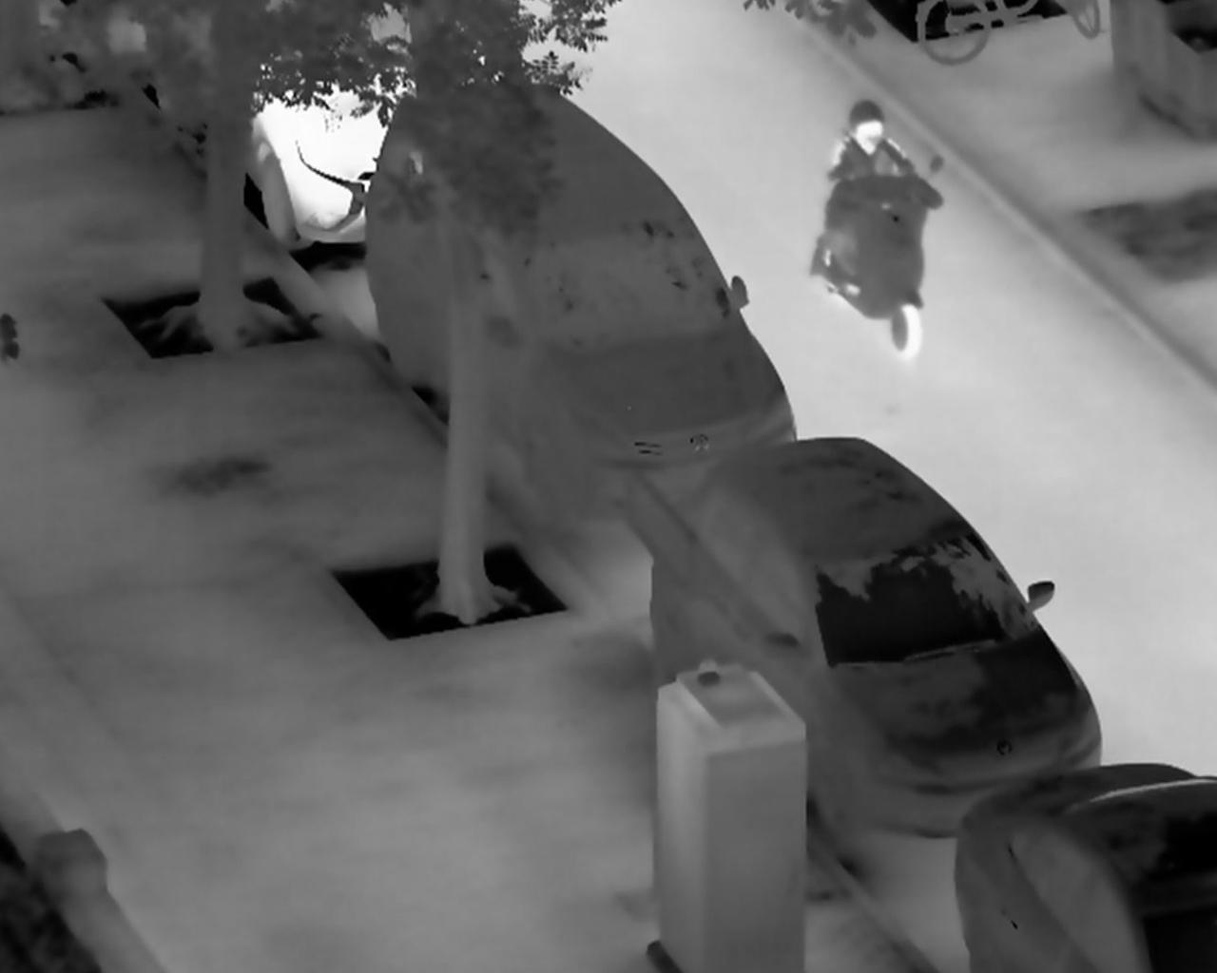person: (813, 95, 931, 279)
